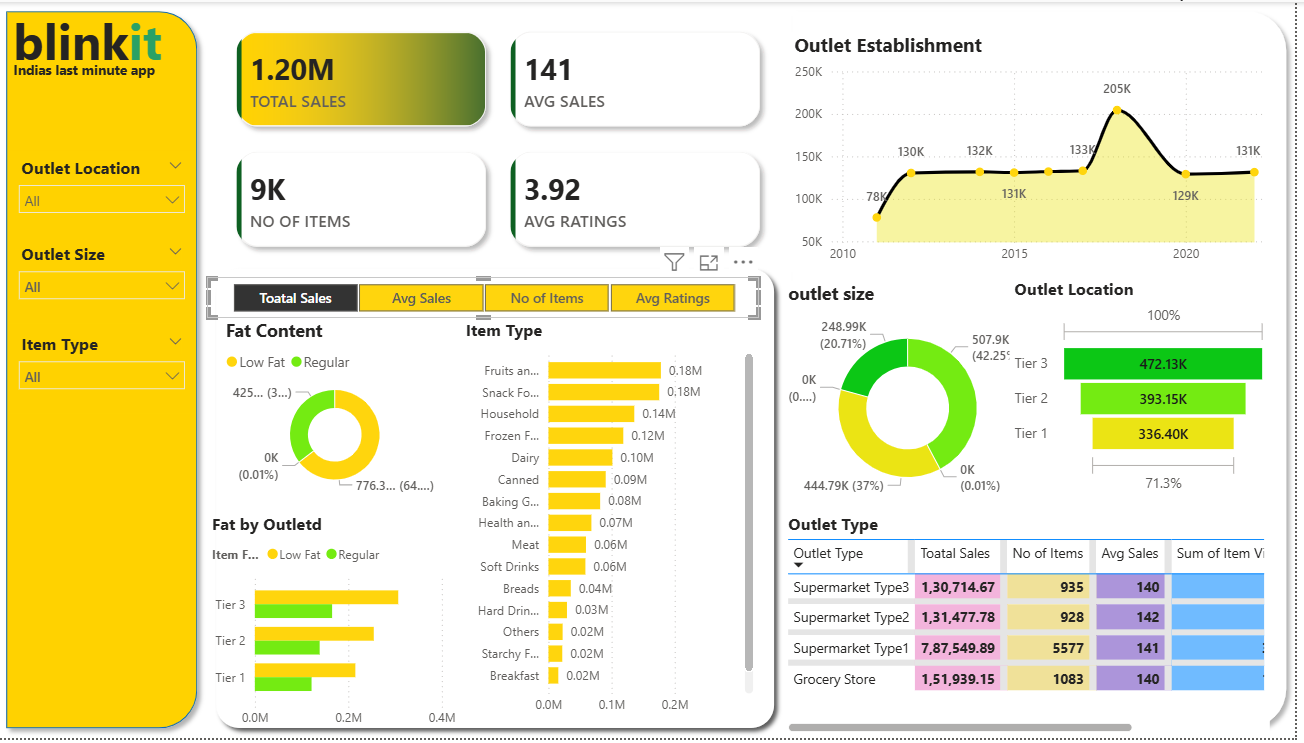

The dashboard page shown, as its layout file describes it:
{"tool":"powerbi","page":{"name":"Page 1","canvas":[1280,720],"ordinal":0},"visuals":[{"type":"shape","box":[10.2,0,204.9,719.6],"z":0},{"type":"textbox","box":[20.3,0,186.2,719.6],"z":1000},{"type":"textbox","box":[20.3,52.5,365.7,667.1],"z":2000},{"type":"cardVisual","fields":{"Data":["BlinkIT Grocery Data.Toatal Sales","BlinkIT Grocery Data.Avg Sales","BlinkIT Grocery Data.No of Items","BlinkIT Grocery Data.Avg Ratings"]},"box":[215,0,570.6,269.2],"z":3000},{"type":"shape","box":[215,252.3,563.8,467.3],"z":4000},{"type":"donutChart","title":" Fat Content","fields":{"Y":["BlinkIT Grocery Data.Toatal Sales","BlinkIT Grocery Data.Avg Sales"],"Category":["BlinkIT Grocery Data.Item Fat Content"]},"box":[228.6,309.8,223.5,176.1],"z":5000},{"type":"slicer","fields":{"Values":["metrics.metrics"]},"box":[215,269.2,540.1,40.6],"z":6000},{"type":"clusteredBarChart","title":"Fat by Outletd ","fields":{"Y":["BlinkIT Grocery Data.Toatal Sales"],"Category":["BlinkIT Grocery Data.Outlet Location Type"],"Series":["BlinkIT Grocery Data.Item Fat Content"]},"box":[215,499.5,248.9,220.1],"z":7000},{"type":"barChart","title":"  Item Type","fields":{"Y":["BlinkIT Grocery Data.Toatal Sales"],"Category":["BlinkIT Grocery Data.Item Type"]},"box":[463.9,309.8,291.2,396.2],"z":8000},{"type":"shape","box":[778.8,0,501.2,719.6],"z":9000},{"type":"lineChart","title":" Outlet Establishment ","fields":{"Category":["BlinkIT Grocery Data.Outlet Establishment Year"],"Y":["BlinkIT Grocery Data.Toatal Sales"]},"box":[785.6,28.8,473,235],"z":10000},{"type":"donutChart","title":"outlet size","fields":{"Y":["BlinkIT Grocery Data.Toatal Sales","BlinkIT Grocery Data.Avg Sales"],"Category":["BlinkIT Grocery Data.Outlet Size"]},"box":[778.8,272.6,243.8,226.9],"z":11000},{"type":"funnel","title":" Outlet Location ","fields":{"Y":["BlinkIT Grocery Data.Toatal Sales"],"Category":["BlinkIT Grocery Data.Outlet Location Type"]},"box":[1000.6,269.2,257.4,216.7],"z":12000},{"type":"pivotTable","title":"Outlet Type","fields":{"Values":["BlinkIT Grocery Data.Toatal Sales","BlinkIT Grocery Data.No of Items","BlinkIT Grocery Data.Avg Sales","Sum(BlinkIT Grocery Data.Item Visibility)","BlinkIT Grocery Data.Avg Ratings"],"Rows":["BlinkIT Grocery Data.Outlet Type"]},"box":[778.8,499.5,475.8,220.1],"z":13000},{"type":"slicer","fields":{"Values":["BlinkIT Grocery Data.Outlet Location Type"]},"box":[20.3,145.6,182.9,74.5],"z":14000},{"type":"slicer","title":" Fat Content","fields":{"Values":["BlinkIT Grocery Data.Outlet Size"]},"box":[20.3,230.3,182.9,84.7],"z":15000},{"type":"slicer","title":" Fat Content","fields":{"Values":["BlinkIT Grocery Data.Item Type"]},"box":[20.3,318.3,182.9,84.7],"z":15001}]}

Visuals, with their boxes in screenshot pixels (x1, y1, x2, y2), scaled from the page's 1280x720 canvas onto the 1304x743 screenshot:
shape: bbox(10, 0, 219, 742)
textbox: bbox(21, 0, 210, 742)
textbox: bbox(21, 54, 393, 742)
cardVisual - BlinkIT Grocery Data.Toatal Sales x BlinkIT Grocery Data.Avg Sales: bbox(219, 0, 800, 278)
shape: bbox(219, 260, 793, 742)
" Fat Content" donutChart: bbox(233, 320, 461, 501)
slicer - metrics.metrics: bbox(219, 278, 769, 320)
"Fat by Outletd " clusteredBarChart: bbox(219, 515, 473, 742)
"  Item Type" barChart: bbox(473, 320, 769, 729)
shape: bbox(793, 0, 1303, 742)
" Outlet Establishment " lineChart: bbox(800, 30, 1282, 272)
"outlet size" donutChart: bbox(793, 281, 1042, 515)
" Outlet Location " funnel: bbox(1019, 278, 1282, 501)
"Outlet Type" pivotTable: bbox(793, 515, 1278, 742)
slicer - BlinkIT Grocery Data.Outlet Location Type: bbox(21, 150, 207, 227)
" Fat Content" slicer: bbox(21, 238, 207, 325)
" Fat Content" slicer: bbox(21, 328, 207, 416)
